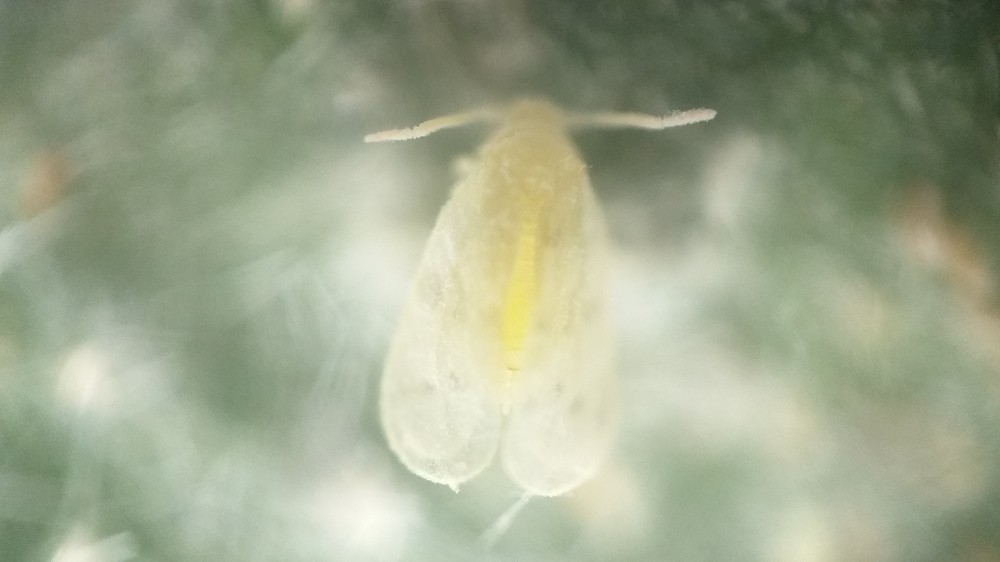Mosca Blanca: (347, 79, 721, 511)
